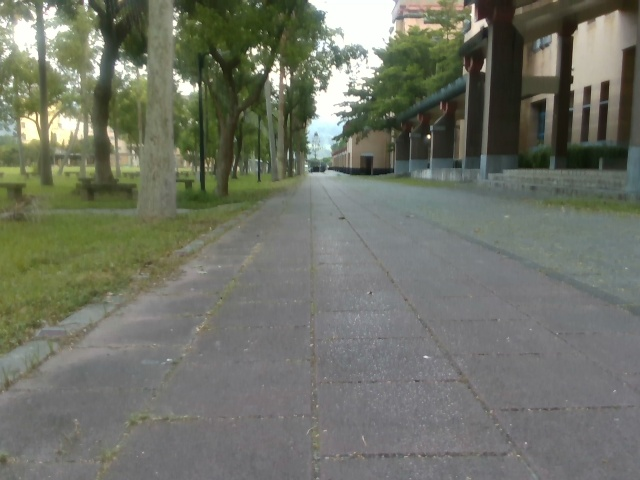grass: (0, 0, 470, 218), (0, 167, 307, 387), (420, 207, 546, 265), (334, 173, 480, 192), (524, 197, 639, 215)
road: (0, 174, 639, 479)
sidewalk: (460, 204, 639, 306)
